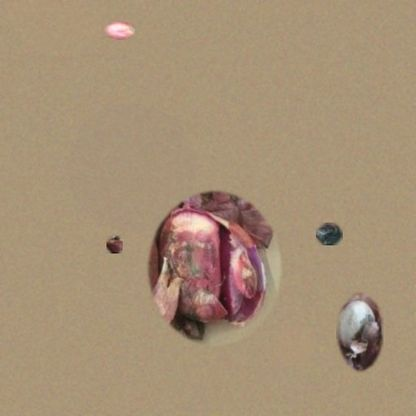damaged: (145, 186, 285, 350)
healthy: (104, 21, 135, 40)
rotten: (336, 291, 383, 373), (316, 223, 343, 245)
sprouted: (106, 236, 123, 254)
